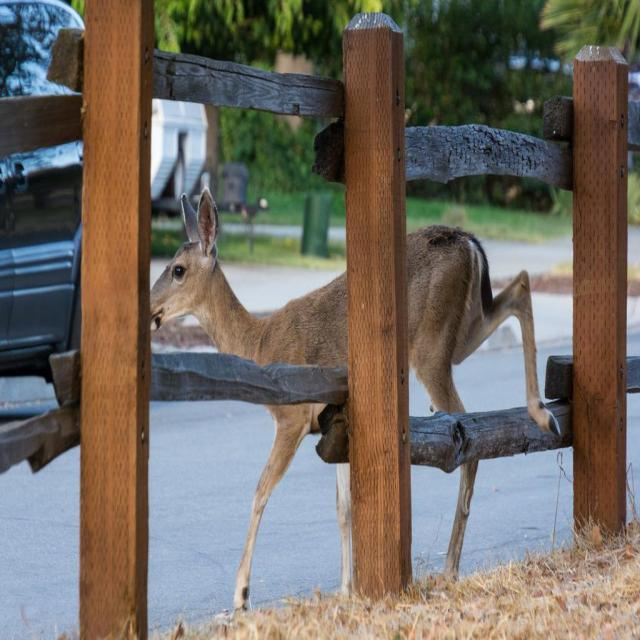Deer: (150, 190, 560, 610)
